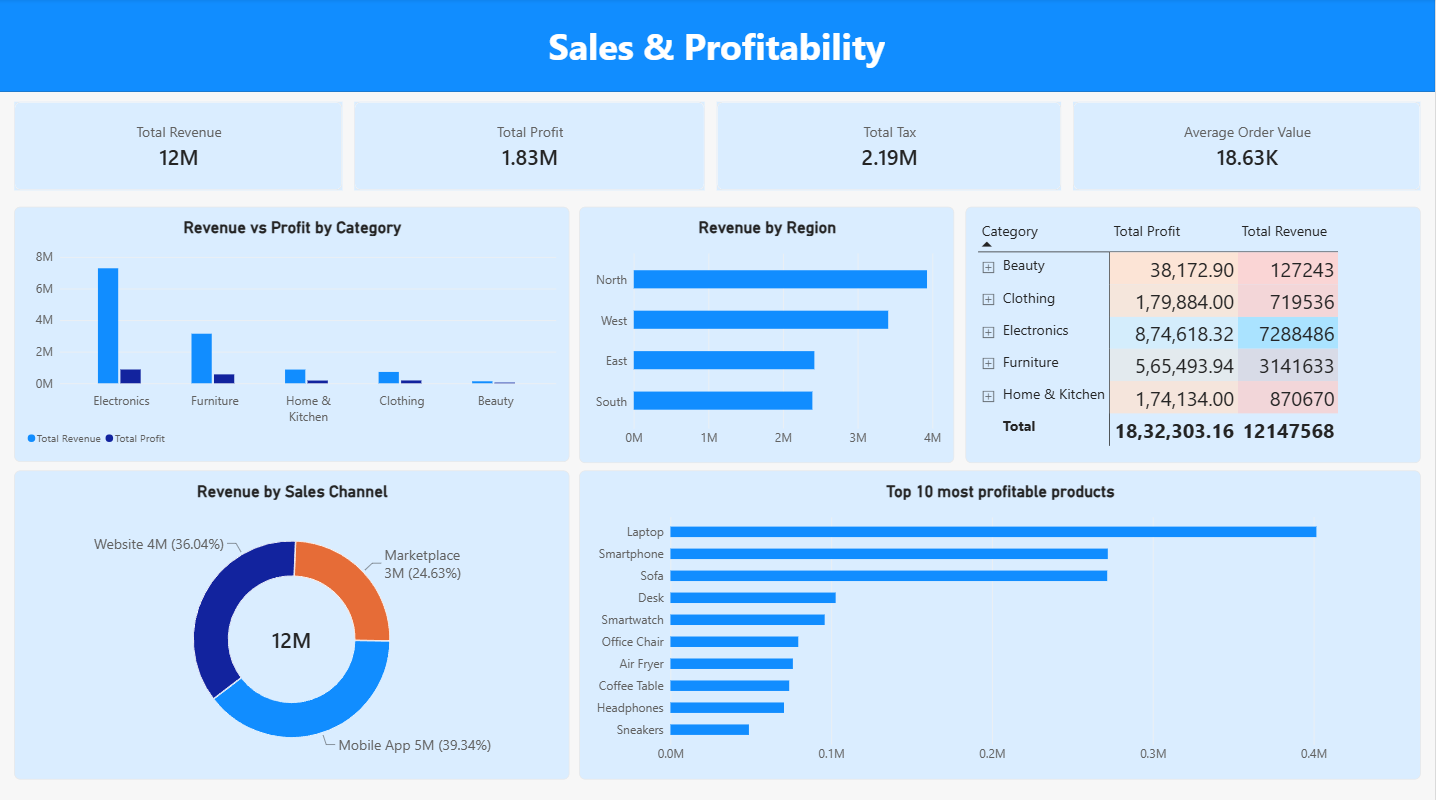

What the dashboard file says about the page in this screenshot:
{"tool":"powerbi","page":{"name":"Sales & Profitability","canvas":[1920,1080],"ordinal":1},"visuals":[{"type":"cardVisual","fields":{"Data":["Raw_Data.Total Revenue"]},"box":[22,16,438,118],"z":0},{"type":"cardVisual","fields":{"Data":["Raw_Data.Total Profit"]},"box":[476,16,468,118],"z":1000},{"type":"cardVisual","fields":{"Data":["Raw_Data.Average Order Value"]},"box":[1436,16,464,118],"z":2000},{"type":"cardVisual","fields":{"Data":["Raw_Data.Total Tax"]},"box":[960,16,460,118],"z":3000},{"type":"clusteredColumnChart","title":"Revenue vs Profit by Category","fields":{"Category":["Raw_Data.Category"],"Y":["Raw_Data.Total Revenue","Raw_Data.Total Profit"]},"box":[22,148,790,412],"z":4000},{"type":"barChart","title":"Top 10 most profitable products","fields":{"Category":["Raw_Data.Product"],"Y":["Raw_Data.Total Profit"]},"box":[776,578,1124,466],"z":5000},{"type":"donutChart","title":"Revenue by Sales Channel","fields":{"Category":["Raw_Data.Sales_Channel"],"Y":["Raw_Data.Total Revenue"]},"box":[22,578,730,466],"z":6000},{"type":"barChart","title":"Revenue by Region","fields":{"Category":["Raw_Data.Region"],"Y":["Raw_Data.Total Revenue"]},"box":[828,148,498,412],"z":7000},{"type":"pivotTable","fields":{"Rows":["Raw_Data.Category","Raw_Data.Product"],"Values":["Raw_Data.Total Profit","Raw_Data.Total Revenue"]},"box":[1338,148,562,412],"z":8000}]}

Visuals, with their boxes in screenshot pixels (x1, y1, x2, y2), scaled from the page's 1920x1080 canvas onto the 1436x800 screenshot:
cardVisual - Raw_Data.Total Revenue: 16, 12, 344, 99
cardVisual - Raw_Data.Total Profit: 356, 12, 706, 99
cardVisual - Raw_Data.Average Order Value: 1074, 12, 1421, 99
cardVisual - Raw_Data.Total Tax: 718, 12, 1062, 99
"Revenue vs Profit by Category" clusteredColumnChart: 16, 110, 607, 415
"Top 10 most profitable products" barChart: 580, 428, 1421, 773
"Revenue by Sales Channel" donutChart: 16, 428, 562, 773
"Revenue by Region" barChart: 619, 110, 992, 415
pivotTable - Raw_Data.Category x Raw_Data.Product: 1001, 110, 1421, 415
